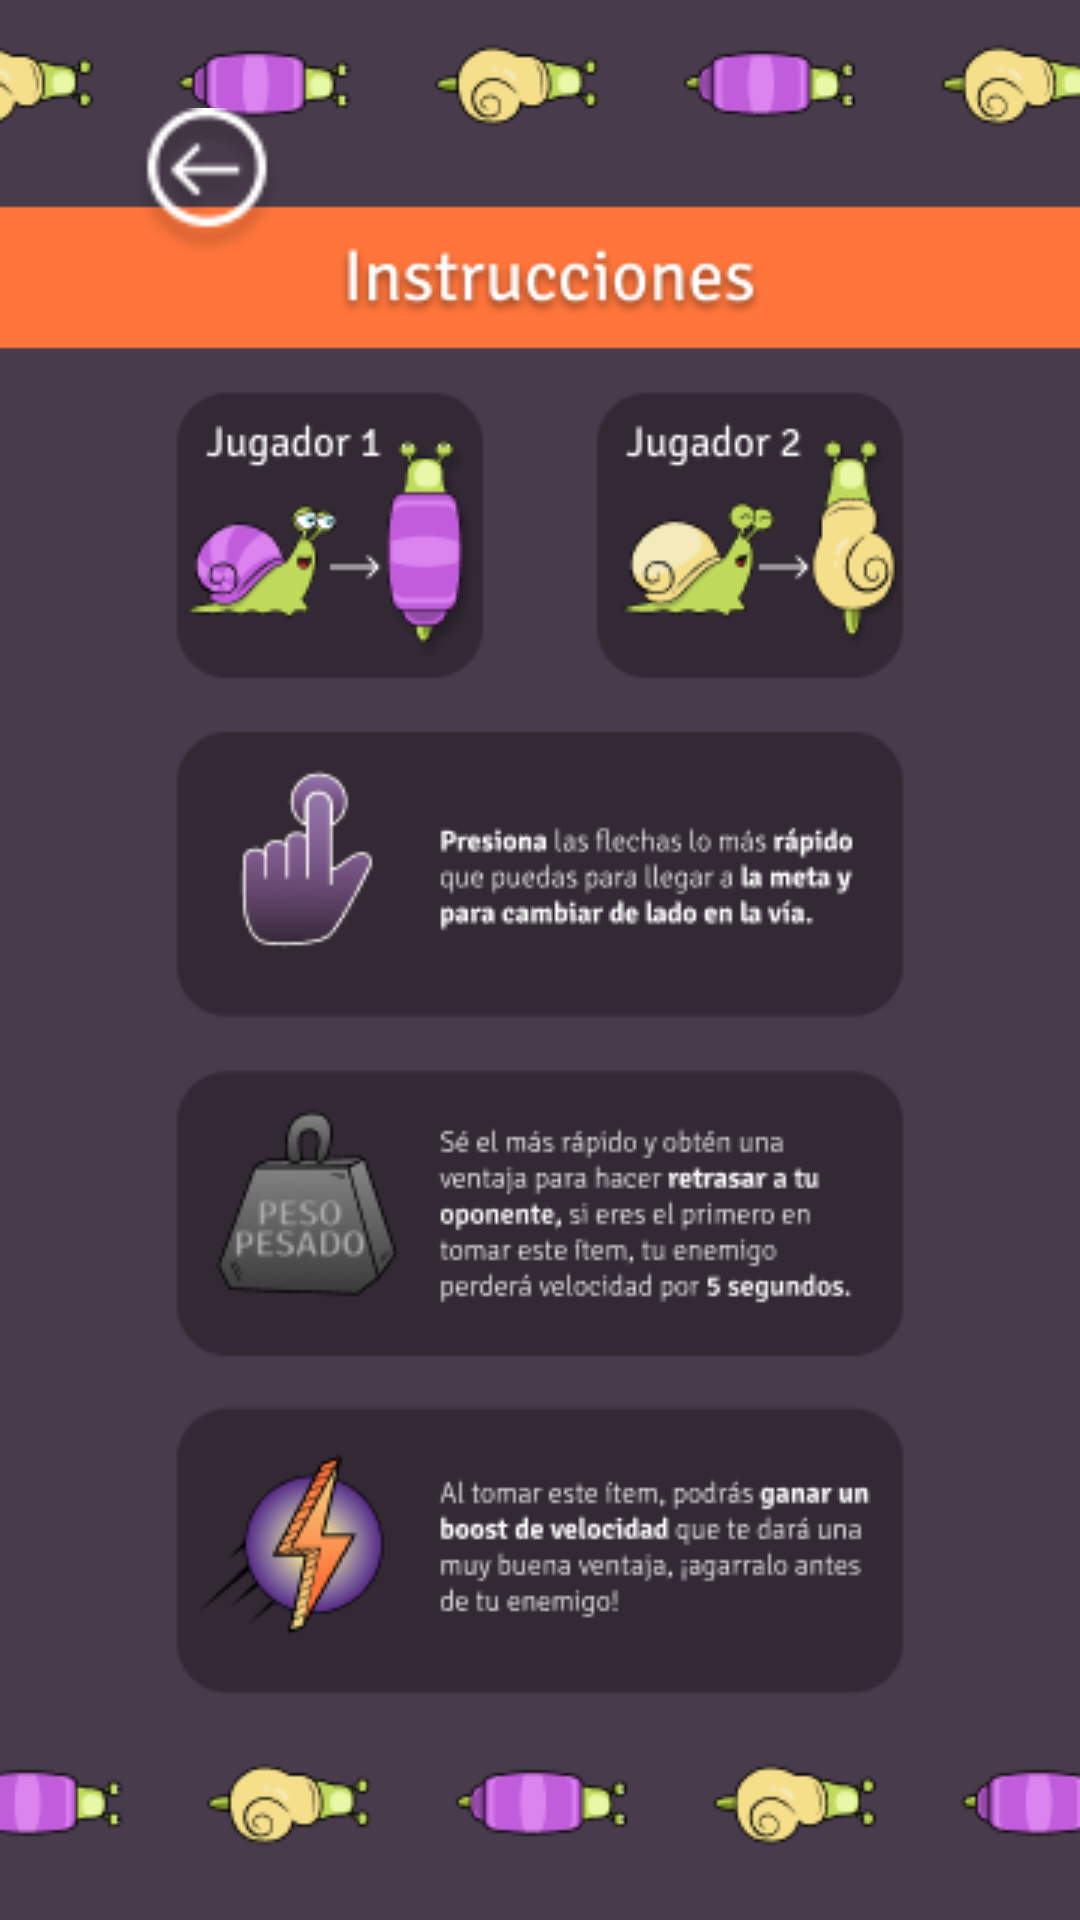

Icon click points for this 1080 x 1920 phone screenshot, format [x,y]:
flechains: [207,183]
